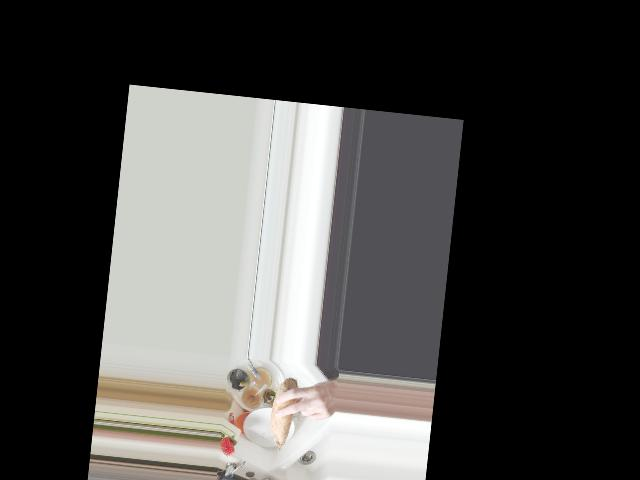sweet_potato: (268, 373, 303, 454)
